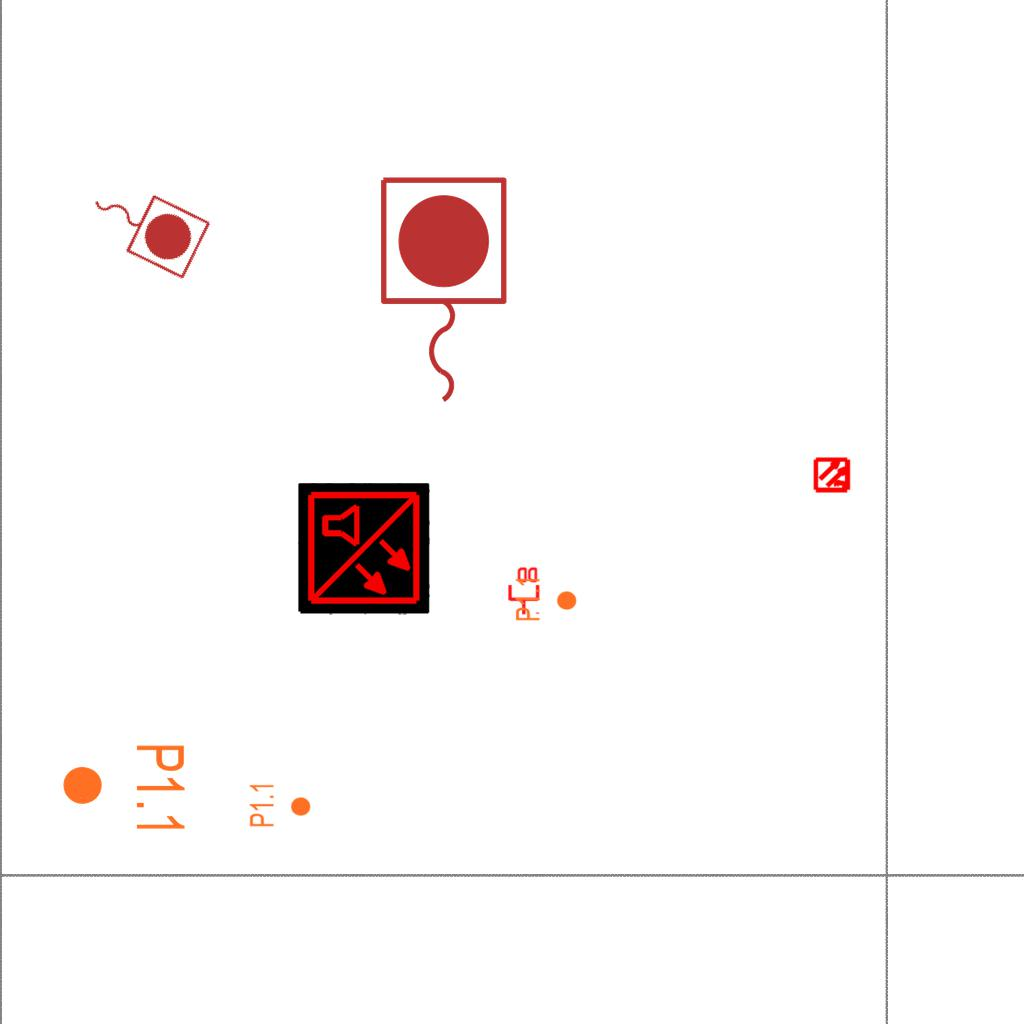Datenanschluss_zweifach: (506, 565, 540, 616)
Downlight_LED_Einbauleuchten_Flur: (60, 742, 188, 835), (248, 782, 312, 828), (514, 576, 578, 622)
OKW_Multisensormelder_(Kombination_optischer_Rauch-Kahlenmonoxid_Waerme-Melder): (298, 483, 430, 615)
OT_Multisensormelder_(Kombination_RMO_WMD): (805, 447, 861, 503)
Zugtaster: (370, 169, 514, 413), (75, 165, 217, 285)
